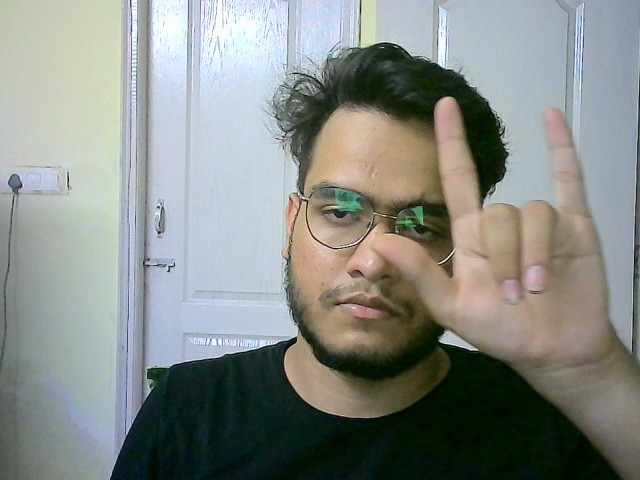I Love You: (380, 93, 618, 367)
